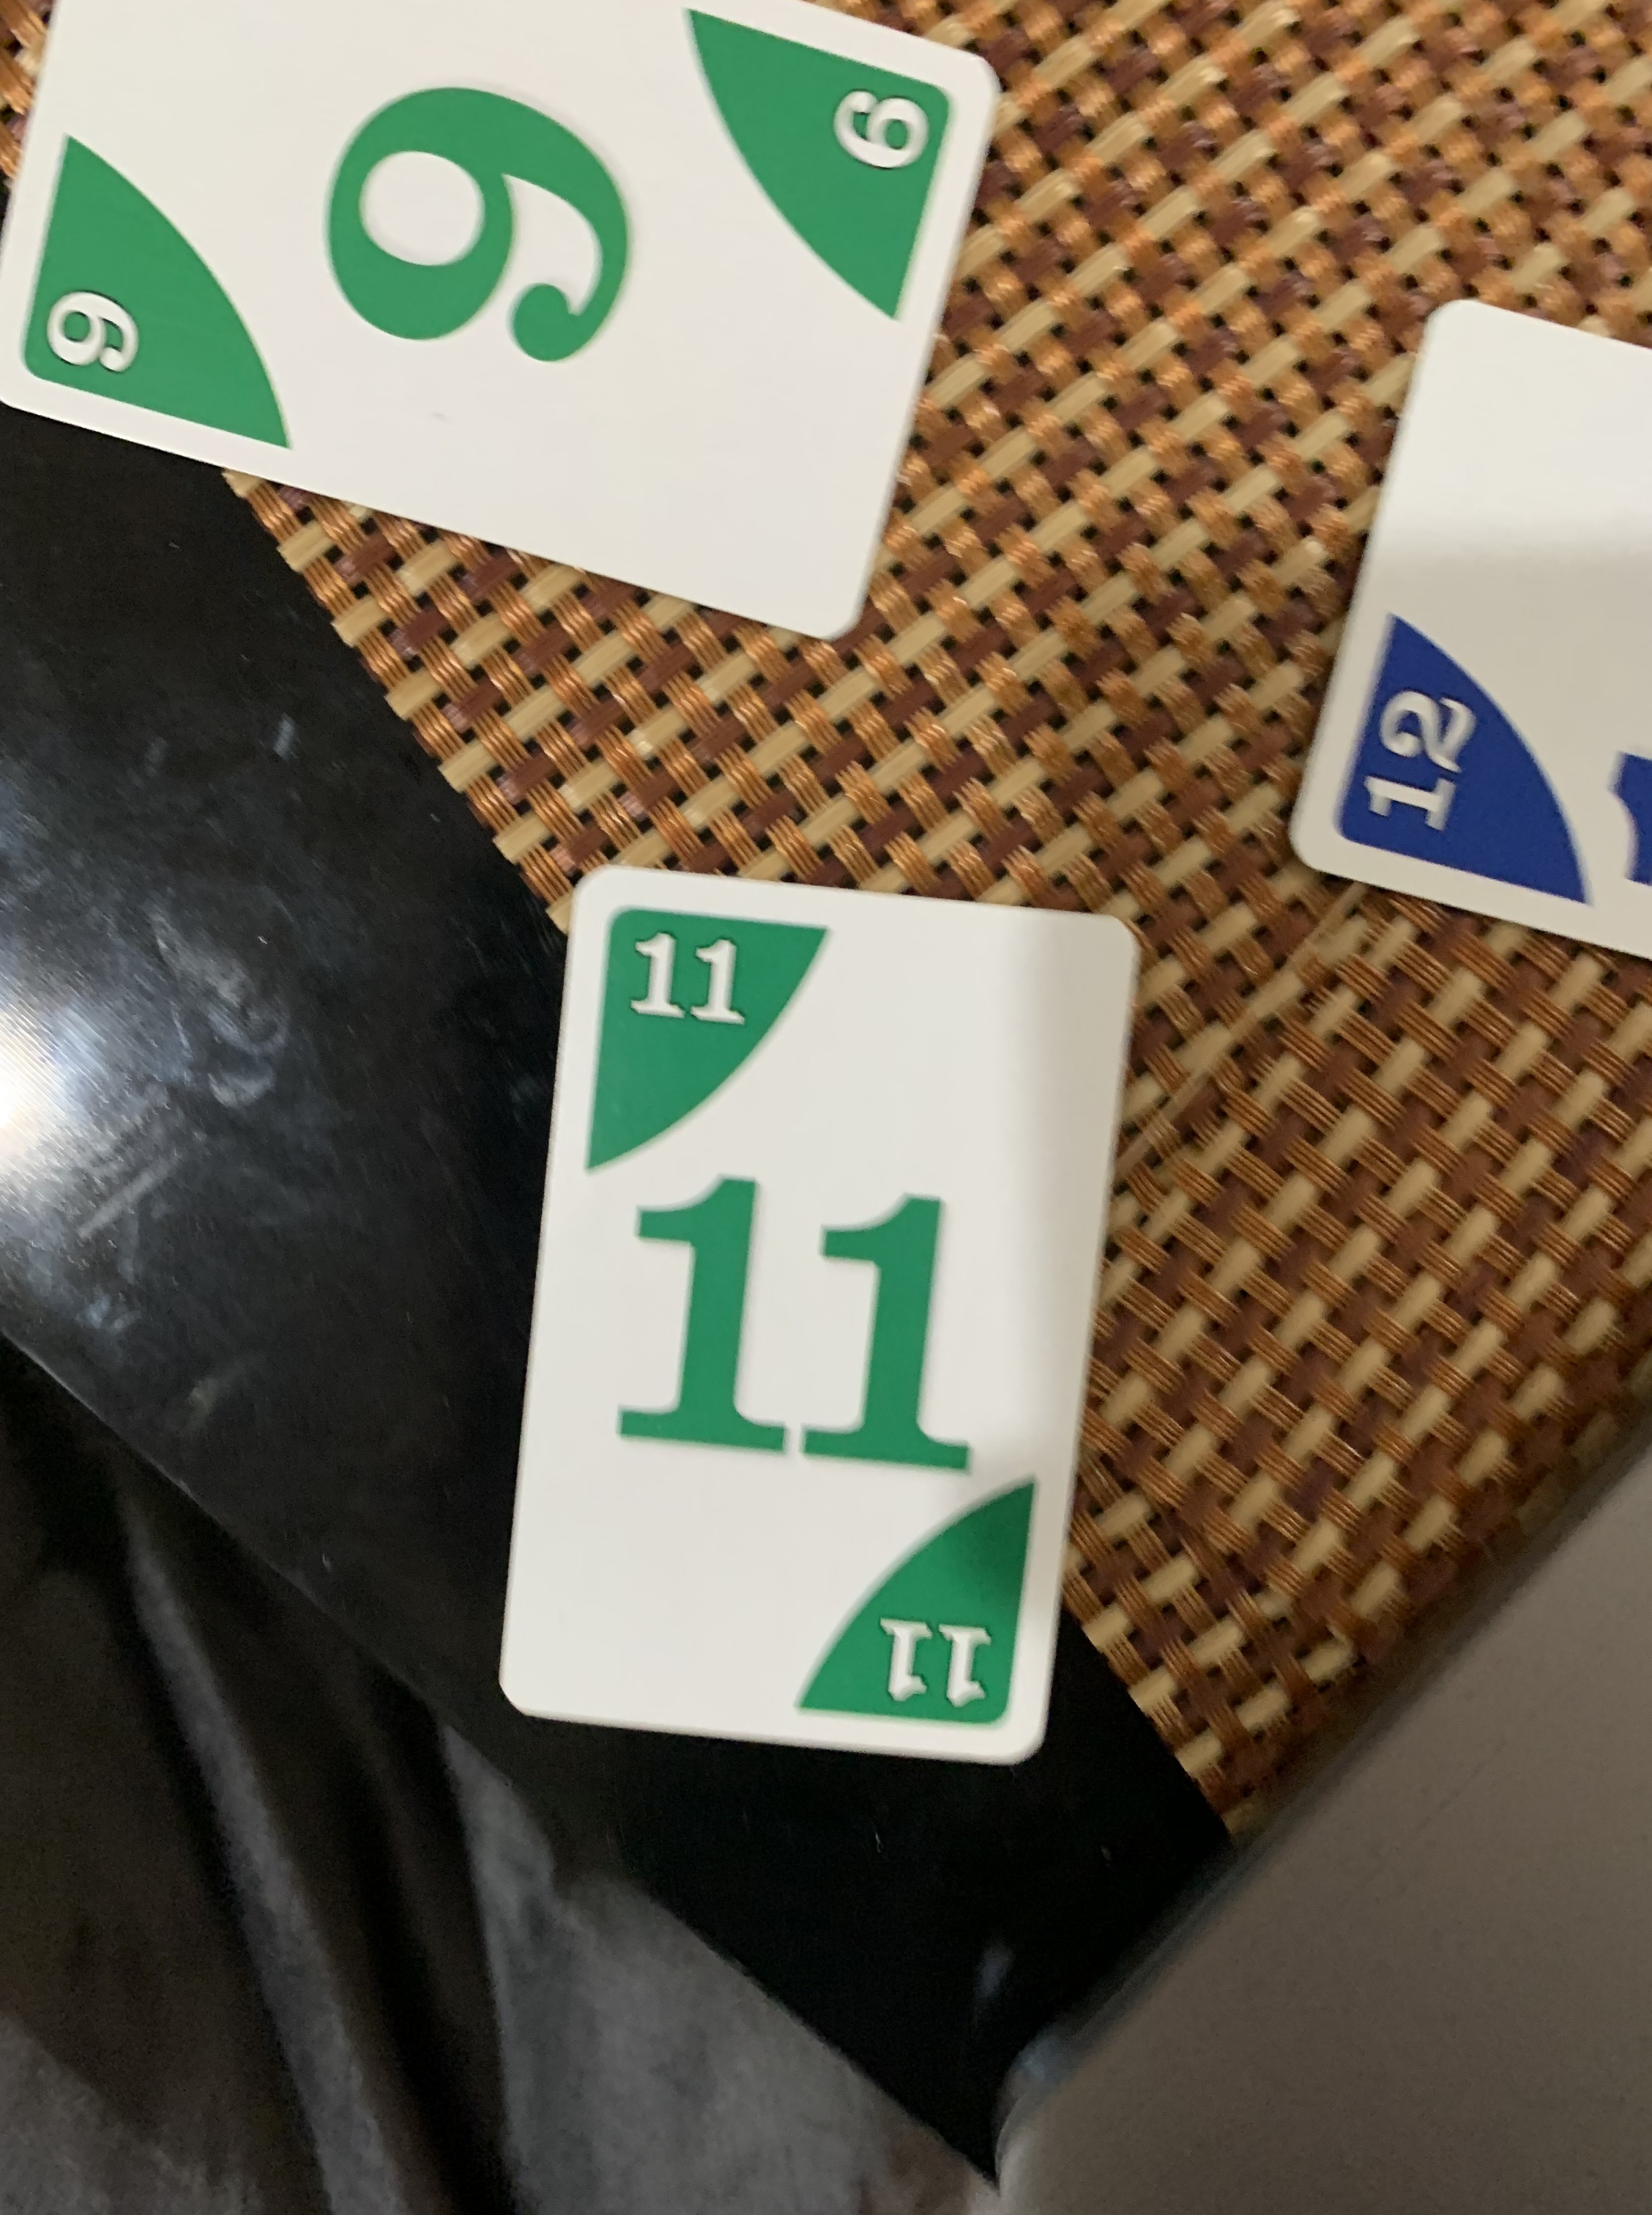eleven: (455, 844, 1178, 1786)
nine: (2, 0, 1031, 663)
